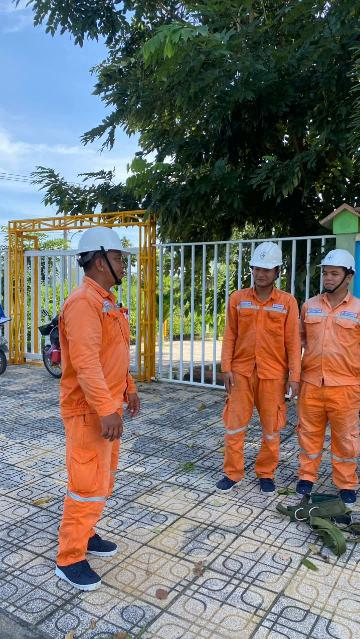helmet: (71, 224, 137, 261), (244, 227, 291, 276), (319, 240, 360, 280)
shoes: (53, 548, 96, 594), (70, 530, 118, 557), (287, 471, 318, 504), (333, 478, 360, 511), (215, 471, 247, 497), (251, 471, 275, 499)
